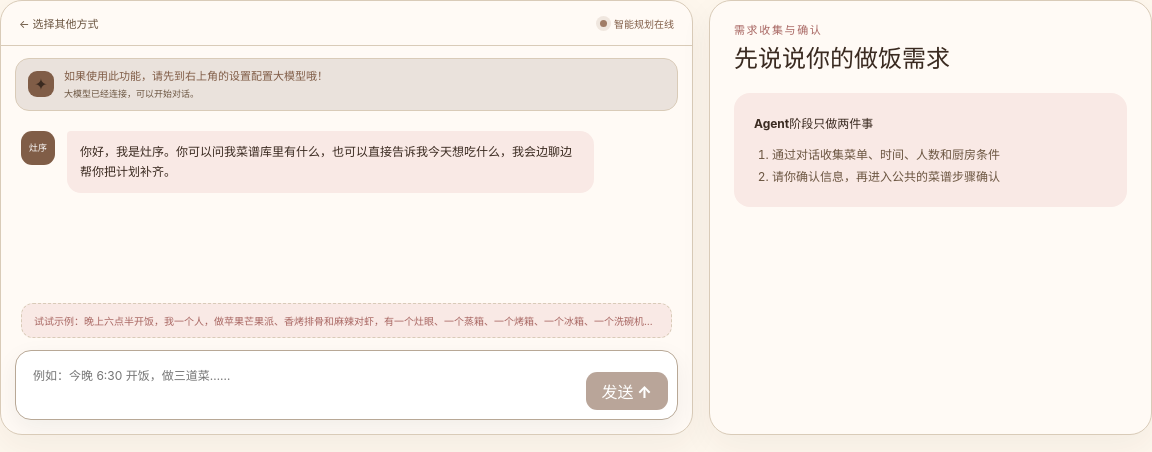
shows an animated thinking status while the model request is pending
This screenshot has width=1152, height=452.
Later steps or results of the test are not shown.
Step 1. Type "今晚六点半开饭" into the text box named "告诉智能助手你的做饭需求" → (300, 385), box [25,360,576,410]
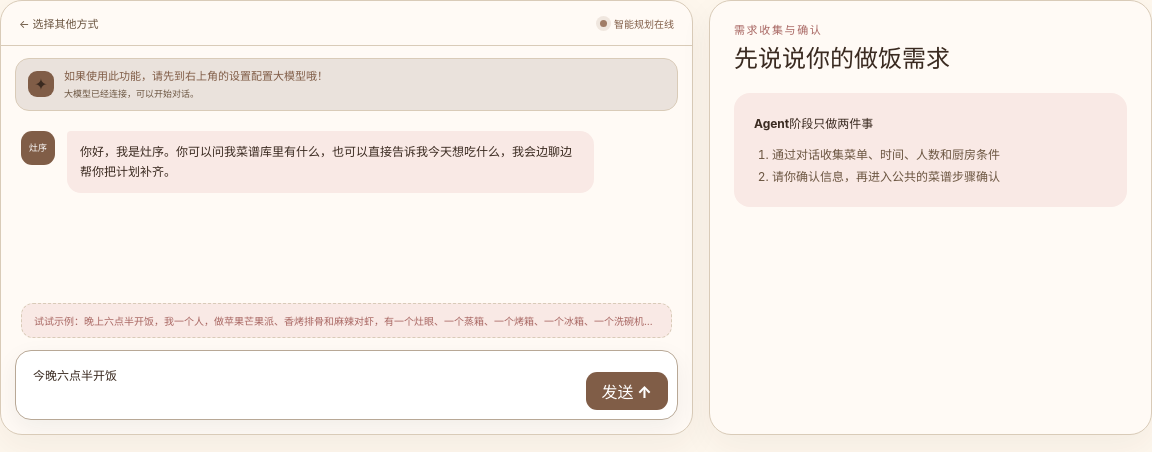
Step 2. Click the button "发送 ↑" → (627, 391), box [586,372,668,410]
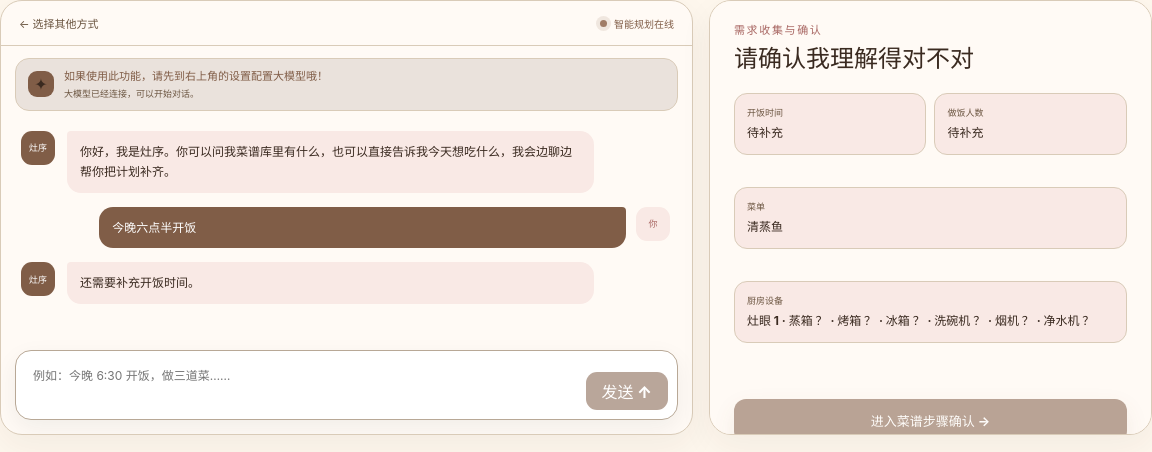
Now the button named "理解中" is disabled, box [586,372,668,410]
Now the text "还需要补充开饭时间。" is shown, box [67,262,594,304]
